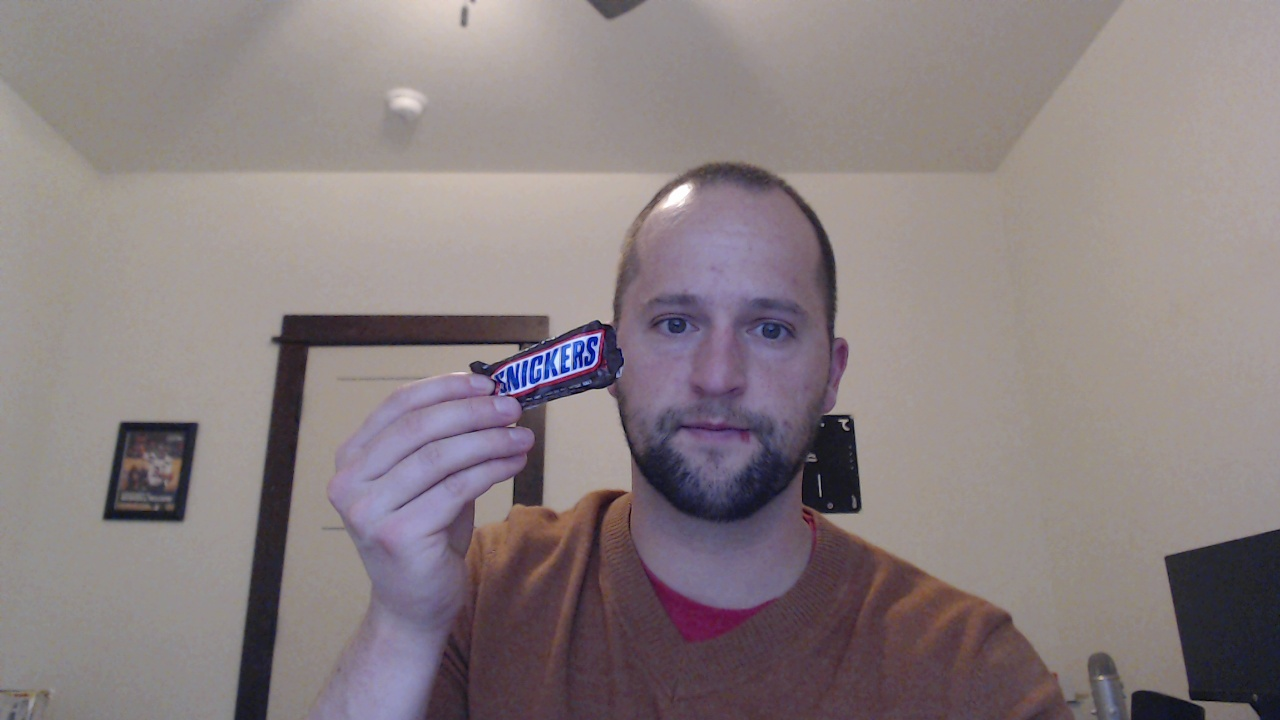snickers: (452, 325, 645, 438)
